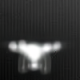plane: (5, 37, 65, 74)
